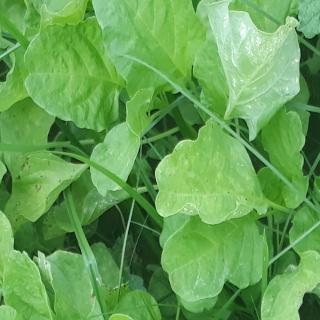karat_putih: (223, 23, 298, 88), (182, 196, 203, 220), (232, 198, 254, 220)
kekurangan_mangan: (16, 159, 34, 184), (34, 175, 49, 198)
